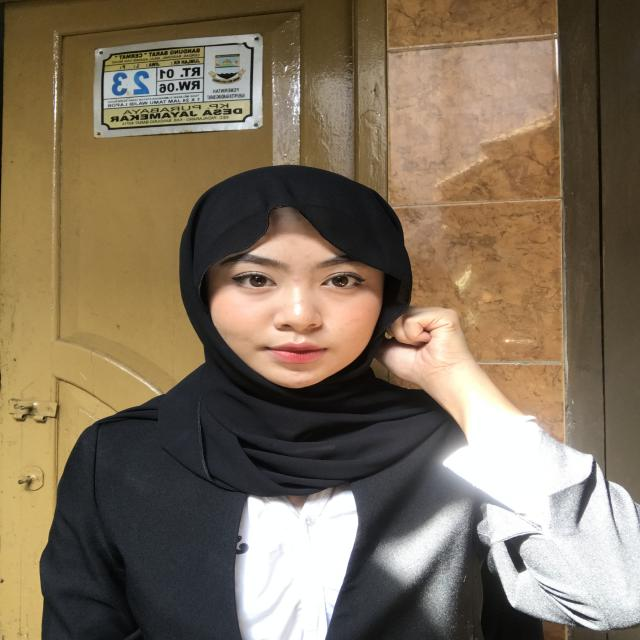ibu: (361, 298, 530, 444)
